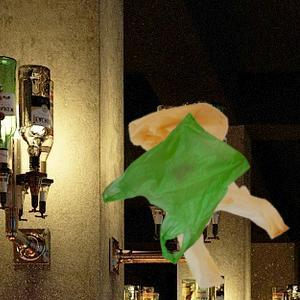plastic_bag: (100, 110, 251, 267)
